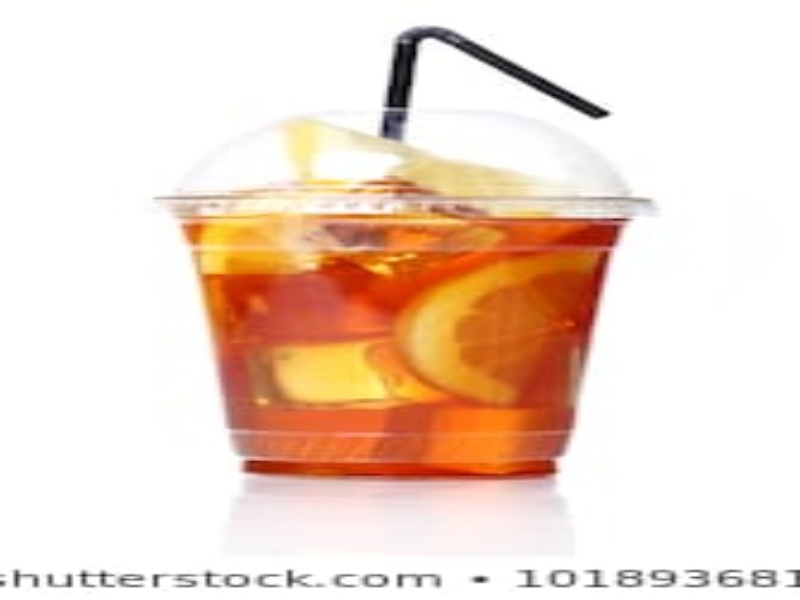plastic-cup: (153, 93, 665, 496)
straw: (367, 18, 624, 138)
